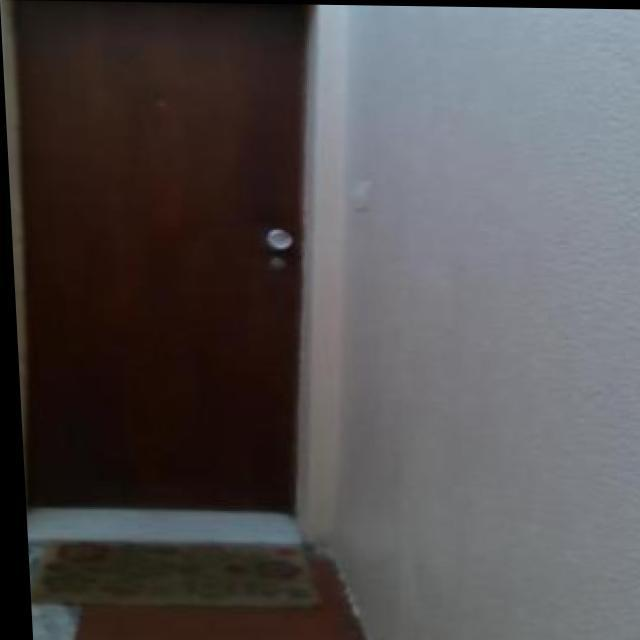door_handle: (254, 220, 294, 283)
